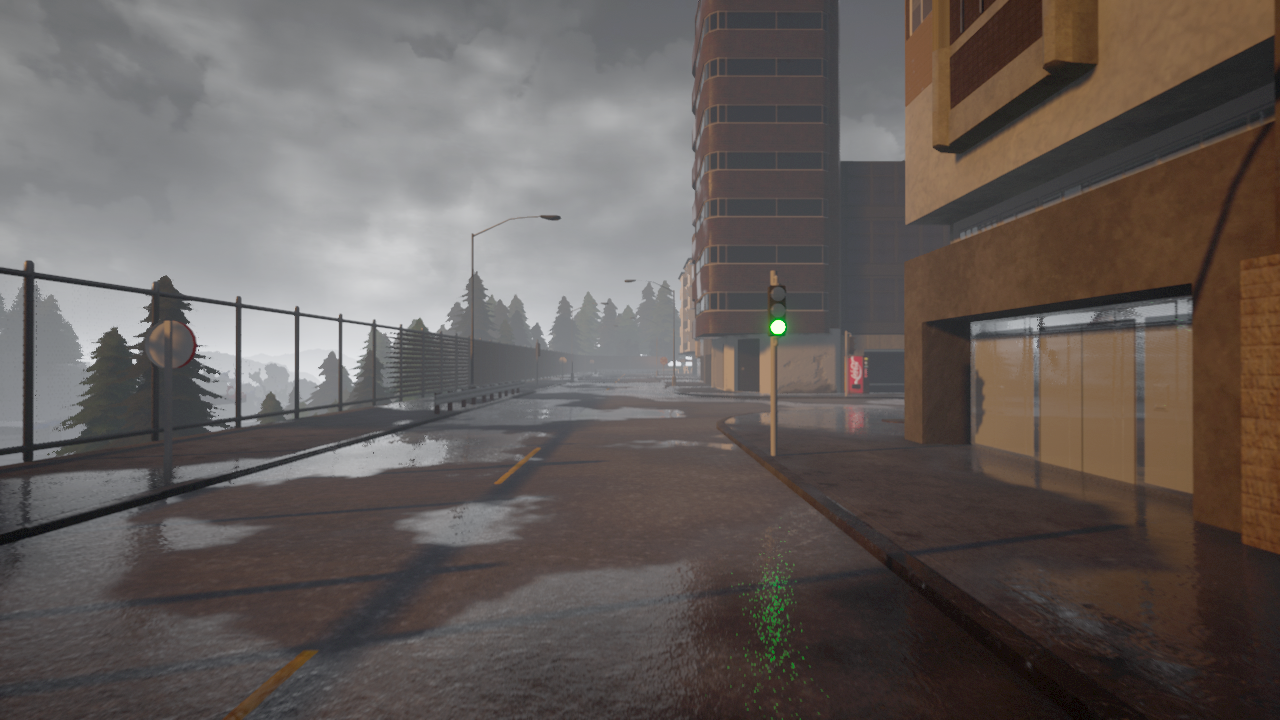green: (769, 284, 788, 340)
